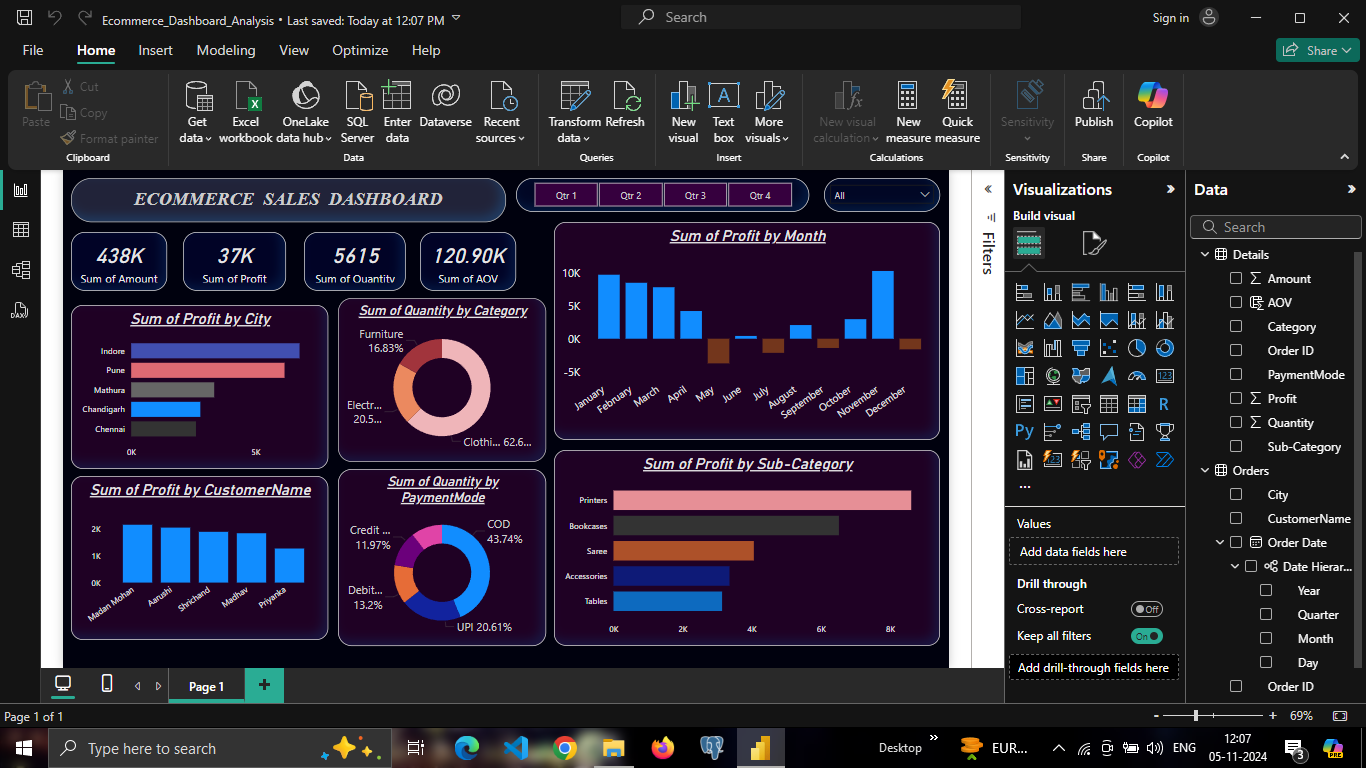

Layout of this report page (visuals, bound fields, positions):
{"tool":"powerbi","page":{"name":"Page 1","canvas":[1280,720],"ordinal":0},"visuals":[{"type":"textbox","box":[11.6,11.6,628.9,63.6],"z":0},{"type":"columnChart","fields":{"Category":["Orders.Order Date.Variation.Date Hierarchy.Month"],"Y":["Details.Profit"]},"box":[709.9,75.2,558.1,315.2],"z":1000},{"type":"donutChart","fields":{"Category":["Details.Category"],"Y":["Details.Quantity"]},"box":[397.6,185.1,300.7,237.1],"z":2000},{"type":"card","fields":{"Values":["Details.Profit"]},"box":[173.5,89.6,148.9,85.3],"z":3000},{"type":"clusteredBarChart","fields":{"Y":["Details.Profit"],"Category":["Details.Sub-Category"]},"box":[709.9,404.8,558.1,283.4],"z":4000},{"type":"donutChart","fields":{"Category":["Details.PaymentMode"],"Y":["Details.Quantity"]},"box":[397.6,432.3,300.7,255.9],"z":5000},{"type":"card","fields":{"Values":["Details.Amount"]},"box":[11.6,89.6,138.8,85.3],"z":6000},{"type":"card","title":"NO. OF ORDERS","fields":{"Values":["Details.Quantity"]},"box":[348.4,89.6,147.5,85.3],"z":7000},{"type":"card","title":"NO. OF ORDERS","fields":{"Values":["Details.AOV"]},"box":[516.1,89.6,138.8,85.3],"z":8000},{"type":"clusteredBarChart","fields":{"Y":["Details.Profit"],"Category":["Orders.City"]},"box":[11.6,195.2,371.6,237.1],"z":9000},{"type":"clusteredColumnChart","fields":{"Y":["Details.Profit"],"Category":["Orders.CustomerName"]},"box":[11.6,442.4,371.6,237.1],"z":10000},{"type":"slicer","fields":{"Values":["Orders.State"]},"box":[1100.2,11.6,167.7,49.2],"z":11000},{"type":"slicer","fields":{"Values":["Orders.Order Date.Variation.Date Hierarchy.Quarter"]},"box":[654.9,11.6,423.6,49.2],"z":12000}]}

Visuals, with their boxes on the page's 1280x720 design canvas (x1, y1, x2, y2). These are canvas units, not pixel positions in the 1366x768 screenshot, which may show the page scaled, cropped or inside an application window:
textbox: 12,12,640,75
columnChart - Orders.Order Date.Variation.Date Hierarchy.Month x Details.Profit: 710,75,1268,390
donutChart - Details.Category x Details.Quantity: 398,185,698,422
card - Details.Profit: 174,90,322,175
clusteredBarChart - Details.Profit x Details.Sub-Category: 710,405,1268,688
donutChart - Details.PaymentMode x Details.Quantity: 398,432,698,688
card - Details.Amount: 12,90,150,175
"NO. OF ORDERS" card: 348,90,496,175
"NO. OF ORDERS" card: 516,90,655,175
clusteredBarChart - Details.Profit x Orders.City: 12,195,383,432
clusteredColumnChart - Details.Profit x Orders.CustomerName: 12,442,383,680
slicer - Orders.State: 1100,12,1268,61
slicer - Orders.Order Date.Variation.Date Hierarchy.Quarter: 655,12,1078,61
